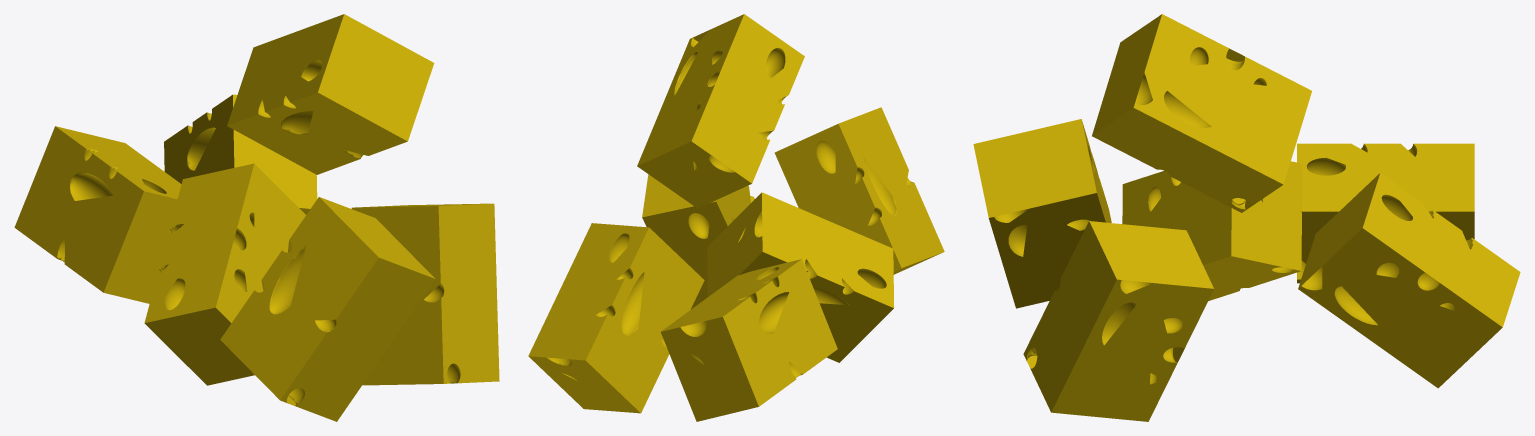
Rendered from cheese_group.fbx.
The picture shows the model from 3 angles, left to right: view 1: azimuth 30°, elevation 25°; view 2: azimuth 150°, elevation 25°; view 3: azimuth 270°, elevation 25°; orthographic projection. The views are drawn at different scales.
Visible parts, largest first — view 1: Cube.003, Cube.004, Cube.001, Cube.002, Cube.005, Cube; view 2: Cube, Cube.004, Cube.002, Cube.001, Cube.003, Cube.005; view 3: Cube, Cube.004, Cube.005, Cube.003, Cube.001, Cube.002.
Boxes of the visible parts, bbox=[...] form: Cube.003: bbox=[220, 197, 435, 421]; Cube.004: bbox=[227, 14, 434, 174]; Cube.001: bbox=[144, 163, 305, 385]; Cube.002: bbox=[14, 126, 181, 303]; Cube.005: bbox=[351, 203, 499, 385]; Cube: bbox=[164, 94, 317, 214]; Cube: bbox=[528, 223, 704, 413]; Cube.004: bbox=[637, 14, 804, 208]; Cube.002: bbox=[660, 259, 837, 421]; Cube.001: bbox=[707, 192, 894, 362]; Cube.003: bbox=[774, 107, 944, 274]; Cube.005: bbox=[642, 174, 754, 309]; Cube: bbox=[1298, 173, 1520, 388]; Cube.004: bbox=[1092, 14, 1311, 212]; Cube.005: bbox=[1023, 221, 1213, 421]; Cube.003: bbox=[973, 119, 1111, 308]; Cube.001: bbox=[1122, 161, 1302, 300]; Cube.002: bbox=[1297, 143, 1474, 283].
Bounding box in the file's own units: 607 × 705 × 925.
